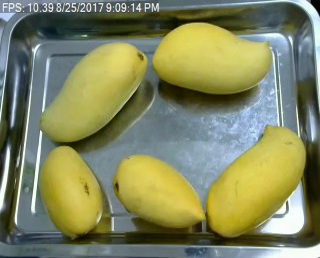Mango: (35, 39, 150, 139), (205, 125, 304, 239), (151, 20, 274, 95), (112, 151, 203, 227), (36, 146, 109, 235)
